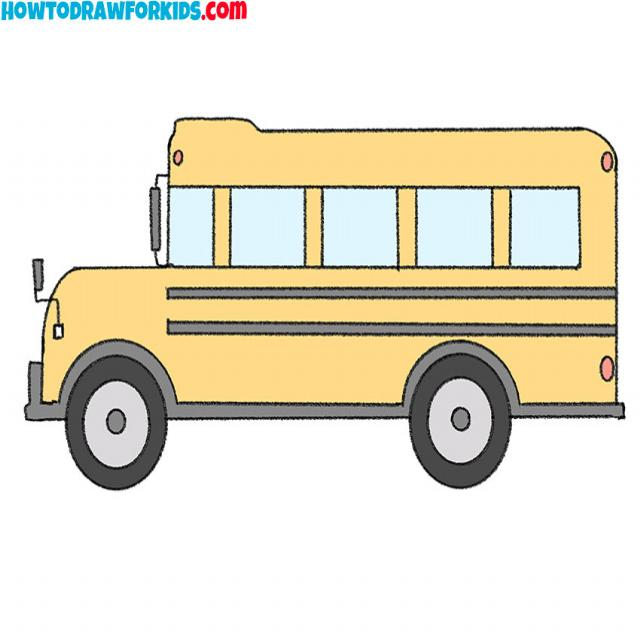bus: (7, 41, 640, 534)
